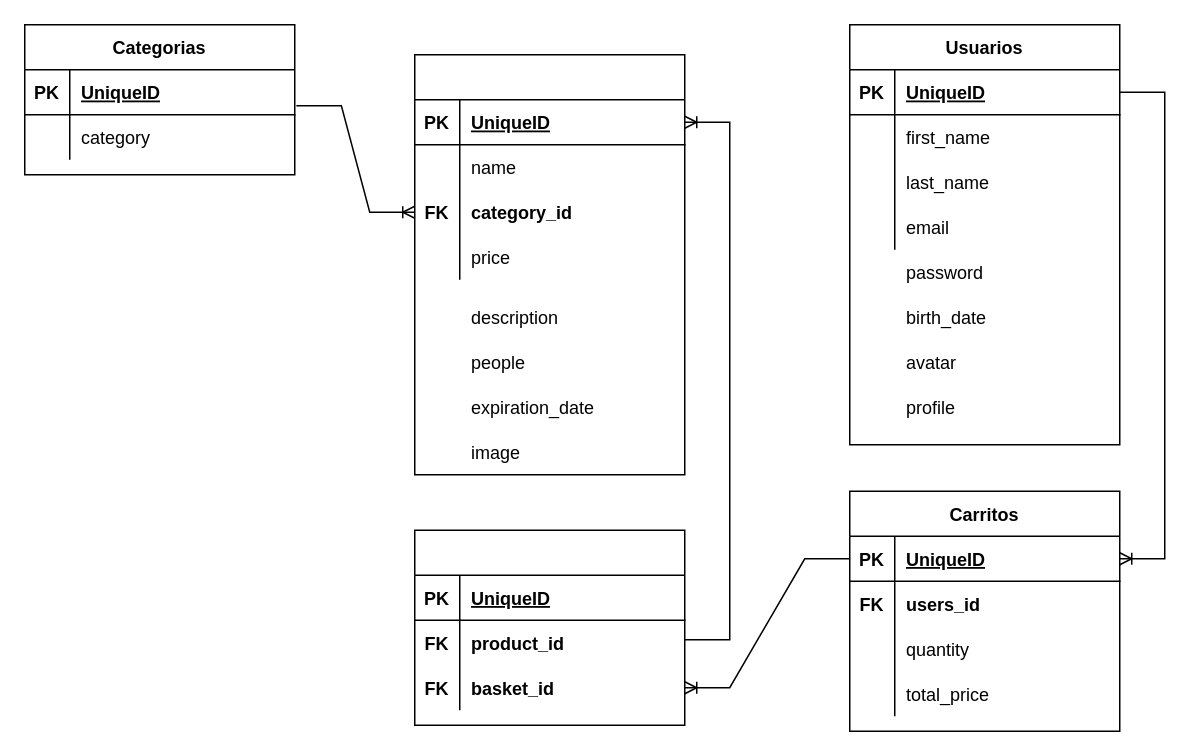
The diagram is 1190 pixels wide and 756 high, and some of its shapes have lost their labels. The box of each missing label's shape, as (x1, y1, x2, y2) in pixels:
Basket_products: (413, 529, 685, 725)
Productos: (413, 53, 685, 475)
